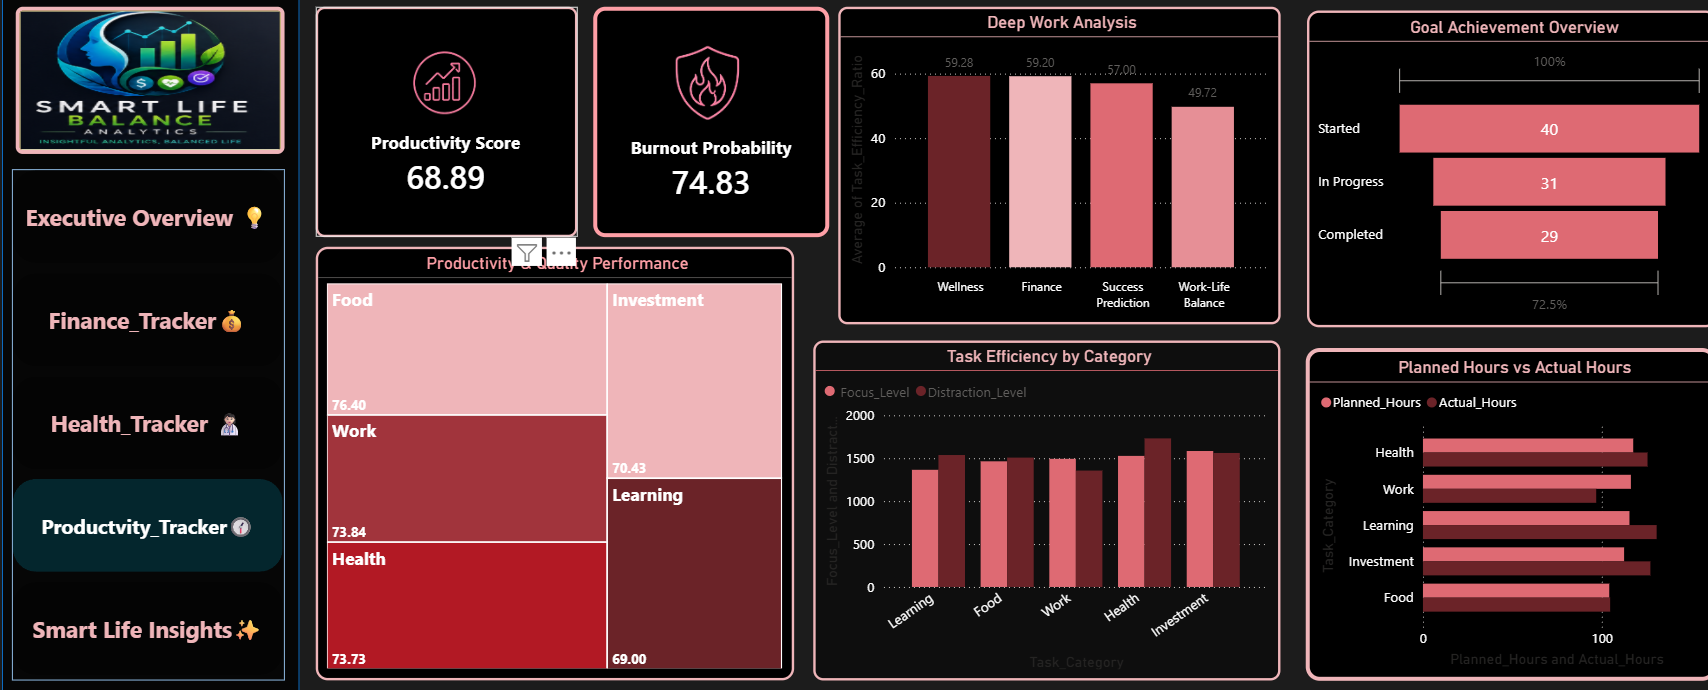

The dashboard page shown, as its layout file describes it:
{"tool":"powerbi","page":{"name":"Productvity_Tracker🕜","canvas":[1730,700],"ordinal":3},"visuals":[{"type":"shape","box":[15.6,-0.5,297.5,796.2],"z":0},{"type":"pageNavigator","box":[25.6,170.8,272.5,511.2],"z":1000},{"type":"image","box":[29.3,8.3,268.8,147.5],"z":2000},{"type":"barChart","title":"Task Efficiency by Category","fields":{"Y":["Sum(master_tracker.Focus_Level)","Sum(master_tracker.Distraction_Level)"],"Category":["task_tracker.Task_Category"]},"box":[826.2,342.5,467.5,340],"z":3000},{"type":"funnel","title":"Goal Achievement Overview","fields":{"Category":["master_tracker.Goal_Stage"],"Y":["CountNonNull(task_tracker.Task_ID)"]},"box":[1320,12.9,410,317.1],"z":4000},{"type":"clusteredBarChart","title":"Planned Hours vs Actual Hours","fields":{"Category":["task_tracker.Task_Category"],"Y":["Sum(task_tracker.Planned_Hours)","Sum(task_tracker.Actual_Hours)"]},"box":[1319.3,349.5,410,332.5],"z":5000},{"type":"treemap","title":"Productivity & Quality Performance","fields":{"Group":["task_tracker.Task_Category"],"Values":["Avg(task_tracker.Productivity_Score)"]},"box":[329.3,248.3,478.8,433.8],"z":6000},{"type":"clusteredColumnChart","title":"Deep Work Analysis","fields":{"Category":["master_tracker_table.task category"],"Y":["Sum(task_tracker.Task_Efficiency_Ratio)"]},"box":[851.8,8.3,442.5,317.5],"z":7000},{"type":"cardVisual","fields":{"Data":["Avg(master_tracker.Burnout_Probability)"]},"box":[606.8,8.3,236.2,230],"z":8000},{"type":"cardVisual","fields":{"Data":["measures table.Productivity Efficiency"]},"box":[329.3,8.3,261.2,230],"z":9000}]}

Visuals, with their boxes in screenshot pixels (x1, y1, x2, y2):
shape: (x1=0, y1=0, x2=293, y2=689)
pageNavigator: (x1=4, y1=163, x2=278, y2=678)
image: (x1=7, y1=0, x2=278, y2=148)
"Task Efficiency by Category" barChart: (x1=810, y1=336, x2=1280, y2=678)
"Goal Achievement Overview" funnel: (x1=1307, y1=4, x2=1707, y2=323)
"Planned Hours vs Actual Hours" clusteredBarChart: (x1=1306, y1=343, x2=1707, y2=678)
"Productivity & Quality Performance" treemap: (x1=309, y1=241, x2=792, y2=678)
"Deep Work Analysis" clusteredColumnChart: (x1=836, y1=0, x2=1281, y2=319)
cardVisual - Avg(master_tracker.Burnout_Probability): (x1=589, y1=0, x2=827, y2=231)
cardVisual - measures table.Productivity Efficiency: (x1=309, y1=0, x2=572, y2=231)
